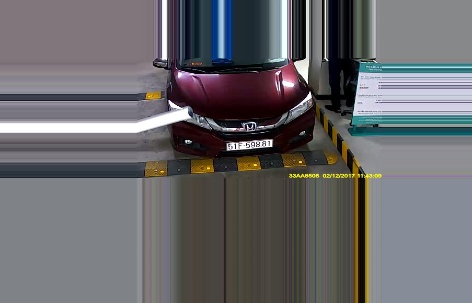plate: (223, 137, 273, 152)
